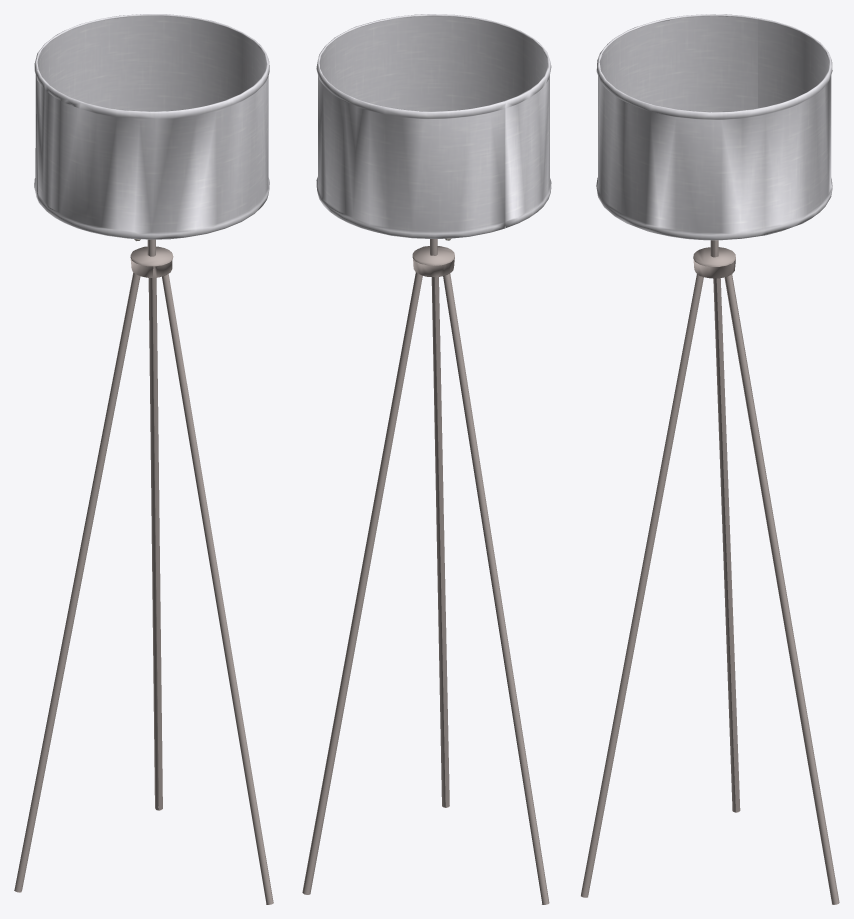
The picture shows the model from 3 angles, left to right: view 1: azimuth 30°, elevation 25°; view 2: azimuth 150°, elevation 25°; view 3: azimuth 270°, elevation 25°; orthographic projection.
Parts seen in each view (by area): view 1: visual_RootNode; view 2: visual_RootNode; view 3: visual_RootNode.
Boxes of the visible parts, x1,y1,x2,y2 form: visual_RootNode: (14,14,273,904); visual_RootNode: (302,14,551,904); visual_RootNode: (580,14,839,904).
Bounding box in the file's own units: 0.4583 × 0.4491 × 1.54.
Materials: 1 (1 with a texture image).
